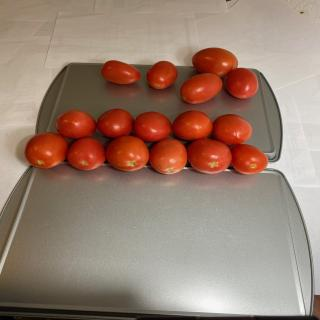Chilli: (24, 108, 269, 175)
Tomato: (24, 132, 68, 168), (187, 139, 232, 174), (106, 136, 149, 172), (149, 138, 188, 174), (192, 47, 238, 77), (180, 73, 223, 104), (212, 114, 253, 145), (67, 138, 106, 170), (172, 110, 213, 140), (133, 111, 172, 142), (55, 110, 96, 139), (230, 144, 268, 175), (97, 108, 134, 138), (226, 67, 258, 99), (101, 60, 141, 85), (146, 61, 178, 89)
